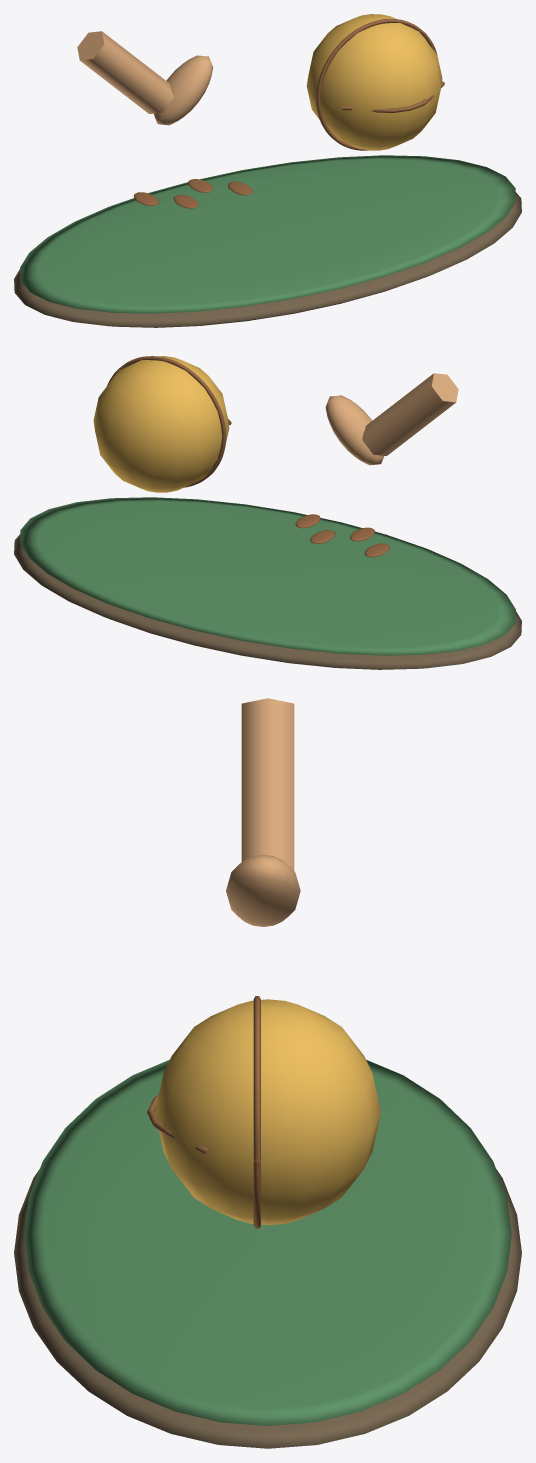
File: kicking-football.glb
3 renders of one model, top to bottom at view 1: azimuth 30°, elevation 25°; view 2: azimuth 150°, elevation 25°; view 3: azimuth 270°, elevation 25°, orthographic. The views are drawn at different scales.
Visible parts, largest first — view 1: kicking-football_surface_01, kicking-football_surface_04, kicking-football_surface_00, kicking-football_surface_02, kicking-football_surface_03; view 2: kicking-football_surface_01, kicking-football_surface_04, kicking-football_surface_00, kicking-football_surface_02, kicking-football_surface_03; view 3: kicking-football_surface_01, kicking-football_surface_04, kicking-football_surface_00, kicking-football_surface_02, kicking-football_surface_03.
Boxes of the visible parts, left/top/right/bottom form: kicking-football_surface_01: left=20, top=155, right=515, bottom=313; kicking-football_surface_04: left=306, top=14, right=442, bottom=150; kicking-football_surface_00: left=14, top=192, right=521, bottom=327; kicking-football_surface_02: left=77, top=31, right=213, bottom=125; kicking-football_surface_03: left=133, top=19, right=444, bottom=208; kicking-football_surface_01: left=20, top=497, right=515, bottom=655; kicking-football_surface_04: left=93, top=356, right=229, bottom=492; kicking-football_surface_00: left=14, top=534, right=521, bottom=669; kicking-football_surface_02: left=325, top=373, right=458, bottom=465; kicking-football_surface_03: left=107, top=356, right=389, bottom=557; kicking-football_surface_01: left=24, top=1060, right=511, bottom=1425; kicking-football_surface_04: left=155, top=999, right=380, bottom=1225; kicking-football_surface_00: left=14, top=1169, right=521, bottom=1448; kicking-football_surface_02: left=226, top=698, right=300, bottom=926; kicking-football_surface_03: left=147, top=996, right=260, bottom=1228.
Bounding box in the file's own units: 4.56 × 2.42 × 2.5.
